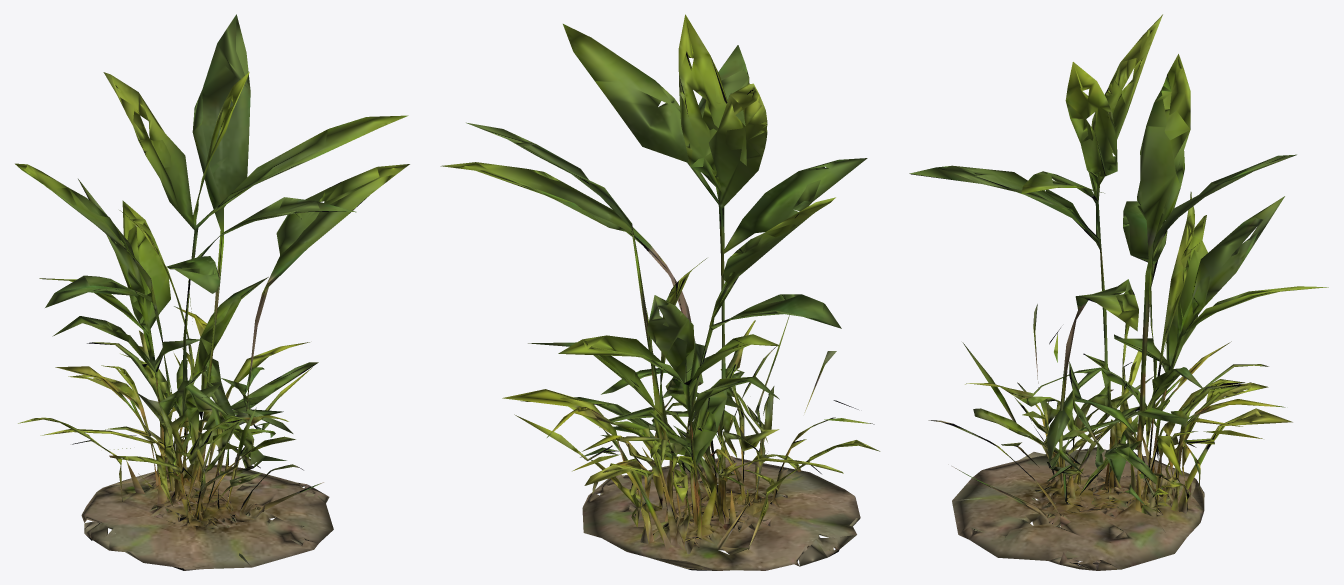
File: plant_ginger_b.glb
3 renders of one model, left to right at view 1: azimuth 30°, elevation 25°; view 2: azimuth 150°, elevation 25°; view 3: azimuth 270°, elevation 25°, orthographic. The views are drawn at different scales.
Visible parts, largest first — view 1: lo; view 2: lo; view 3: lo.
Part boxes in pixels (bbox=[...]): lo: bbox=[15, 14, 409, 570]; lo: bbox=[440, 14, 880, 570]; lo: bbox=[909, 14, 1328, 570].
Size of the model in its own units: 1.78 by 1.92 by 1.55.
Materials: 1 (1 with a texture image).
